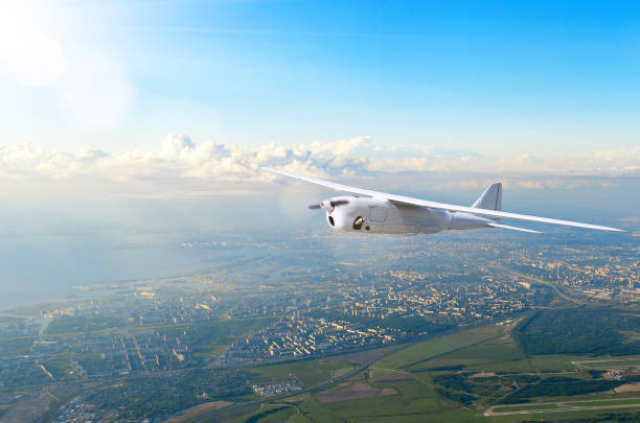military drone: (258, 167, 628, 233)
